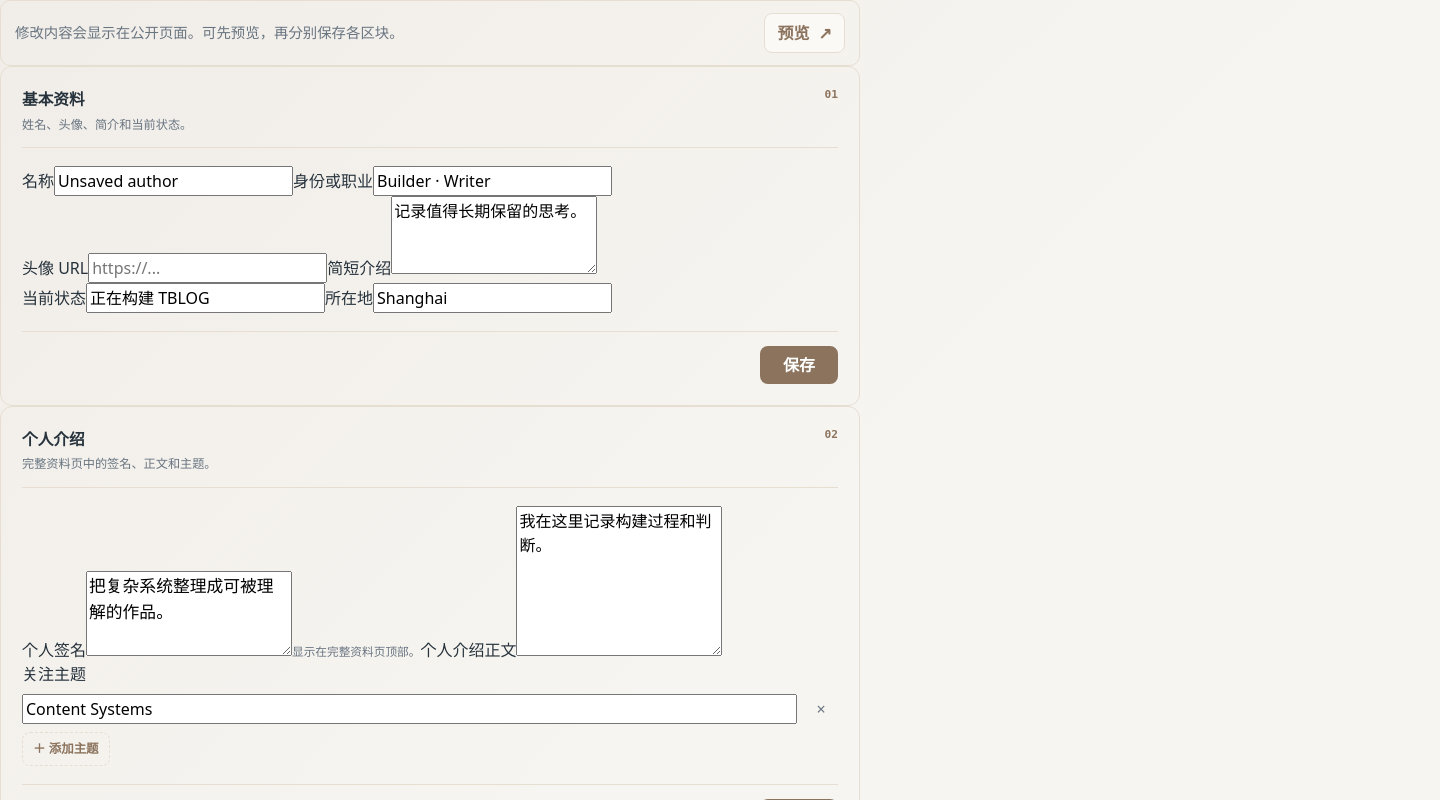
Test case: SettingsProfileForm › previews current unsaved values in all three public states
Click the button with test id "profile-open-preview".
click(805, 33)  # box [764,13,845,53]
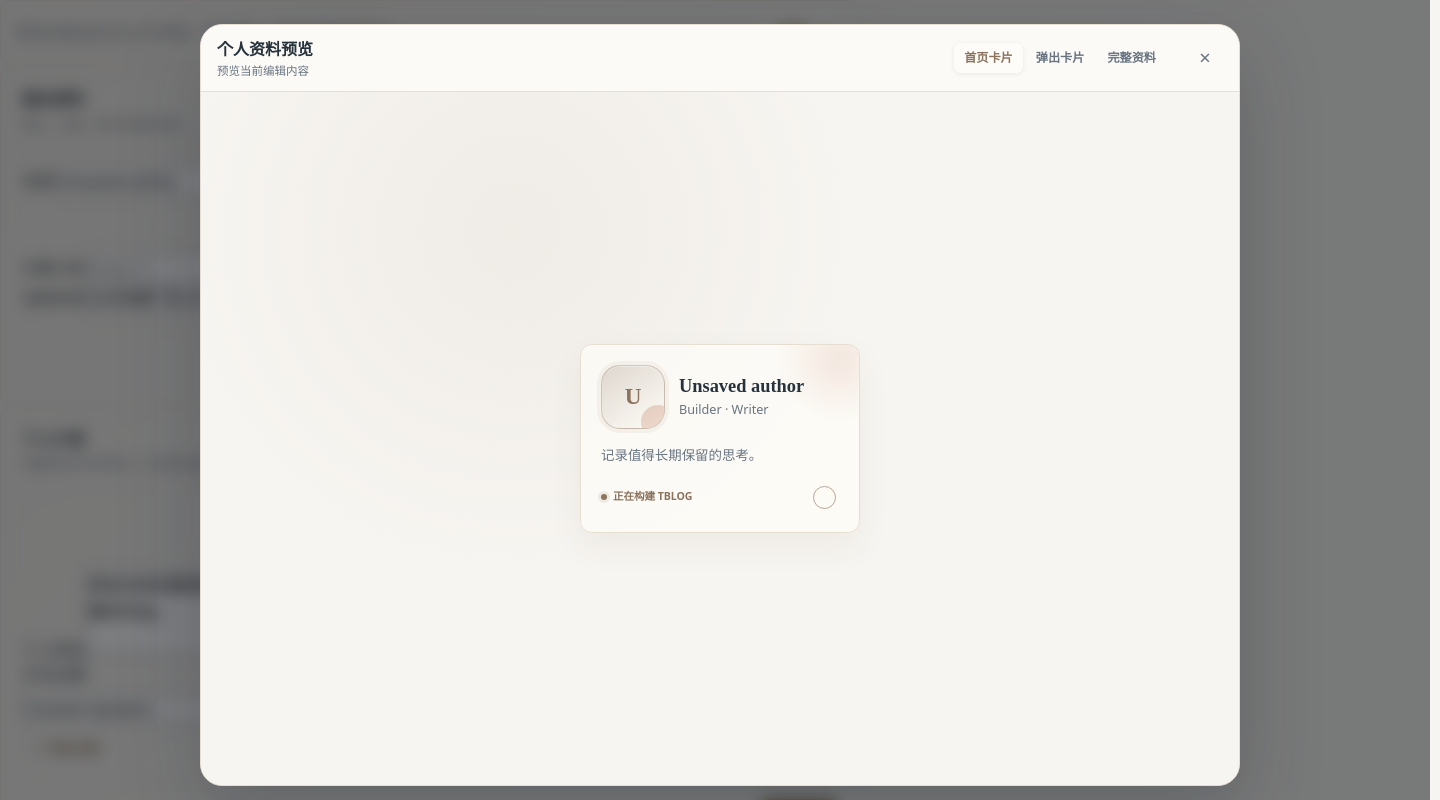
Expected: the heading "Unsaved author" is shown, [679,376,804,396]
Click the button with test id "profile-preview-popover".
click(1060, 58)  # box [1026,43,1094,73]
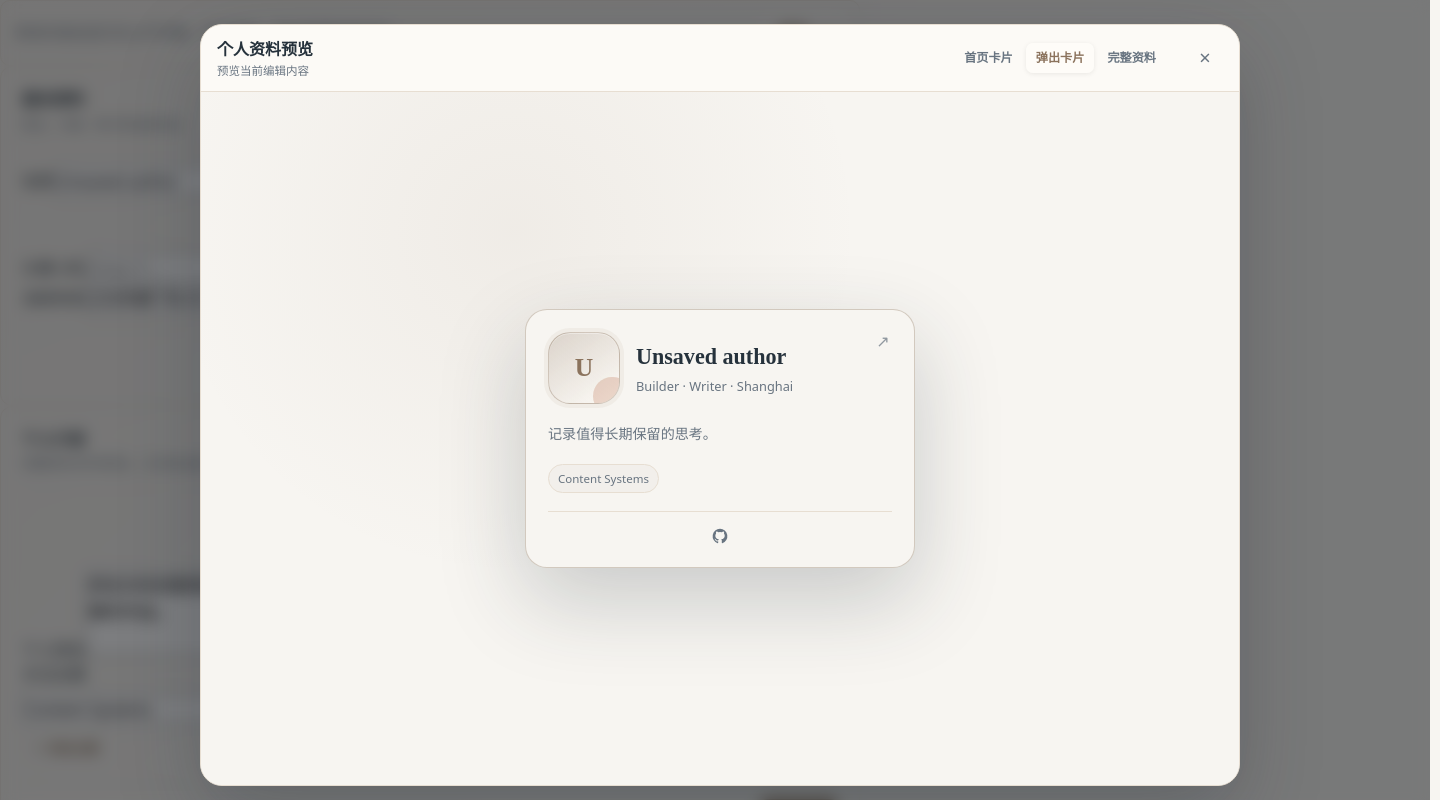
Expected: the heading "Unsaved author" is shown, [636,340,793,373]
Expected: the list reads "Content Systems", [558,471,649,486]
Expected: the link named "GitHub" is shown, [711,527,729,545]
Click the button with test id "profile-preview-detail".
click(1132, 58)  # box [1097,43,1166,73]
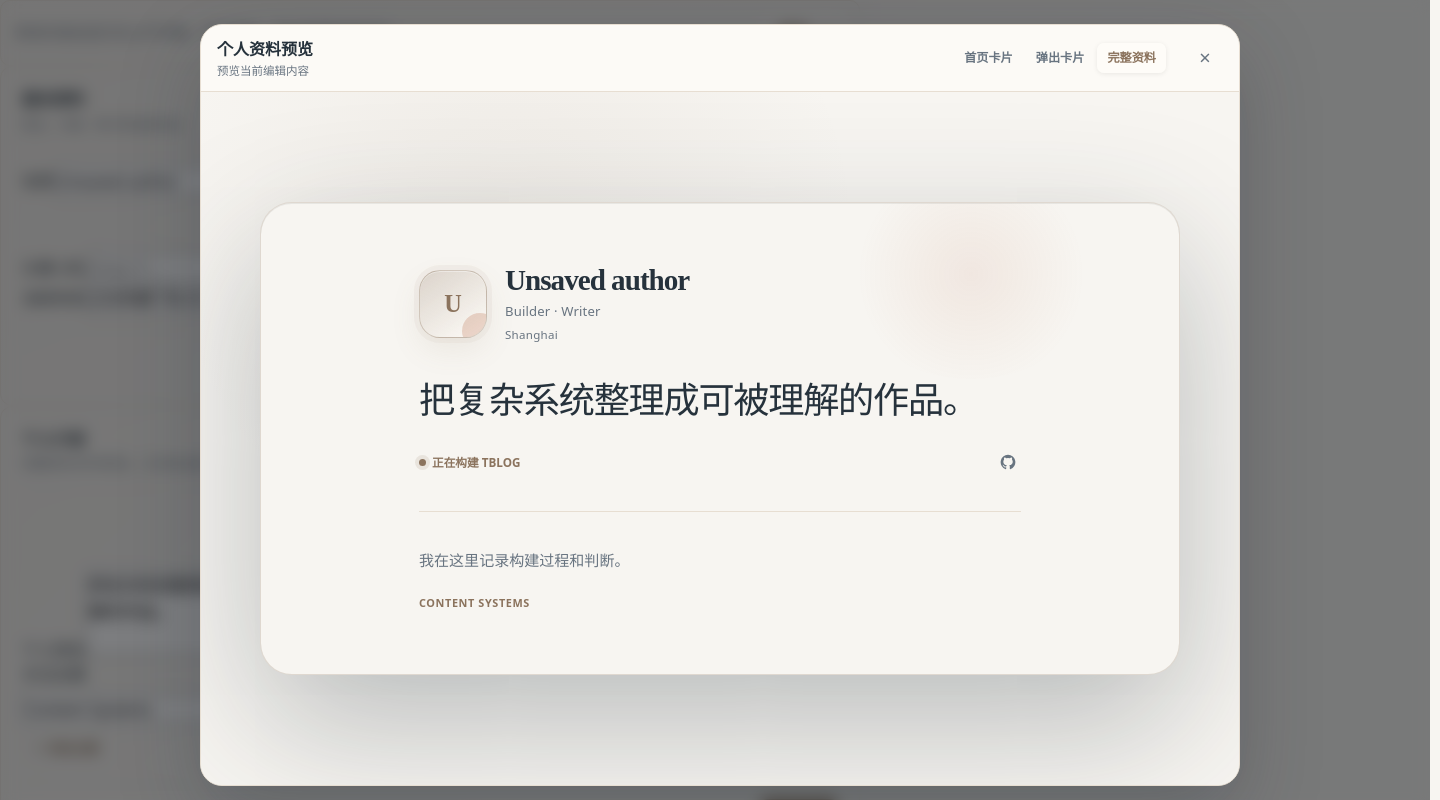
Expected: the text "把复杂系统整理成可被理解的作品。" is shown, [419,378,1021,425]
